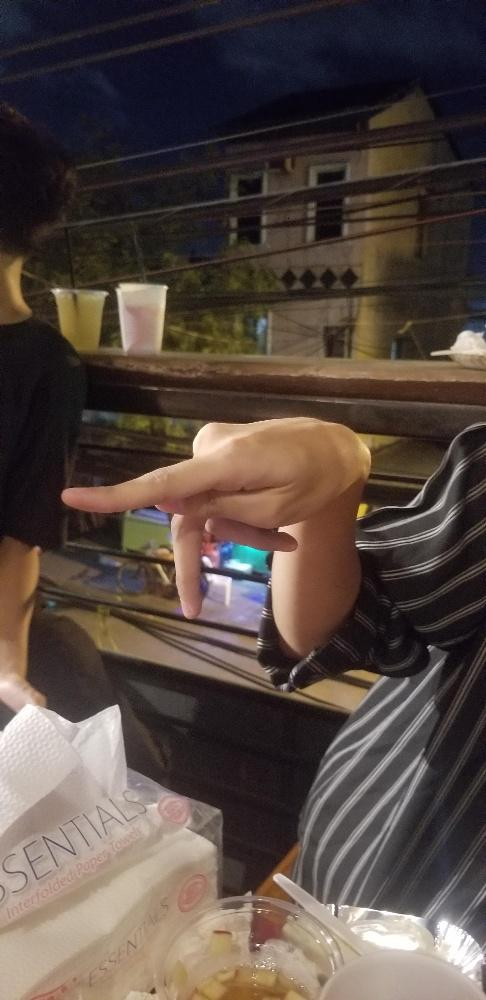p: (59, 412, 372, 620)
